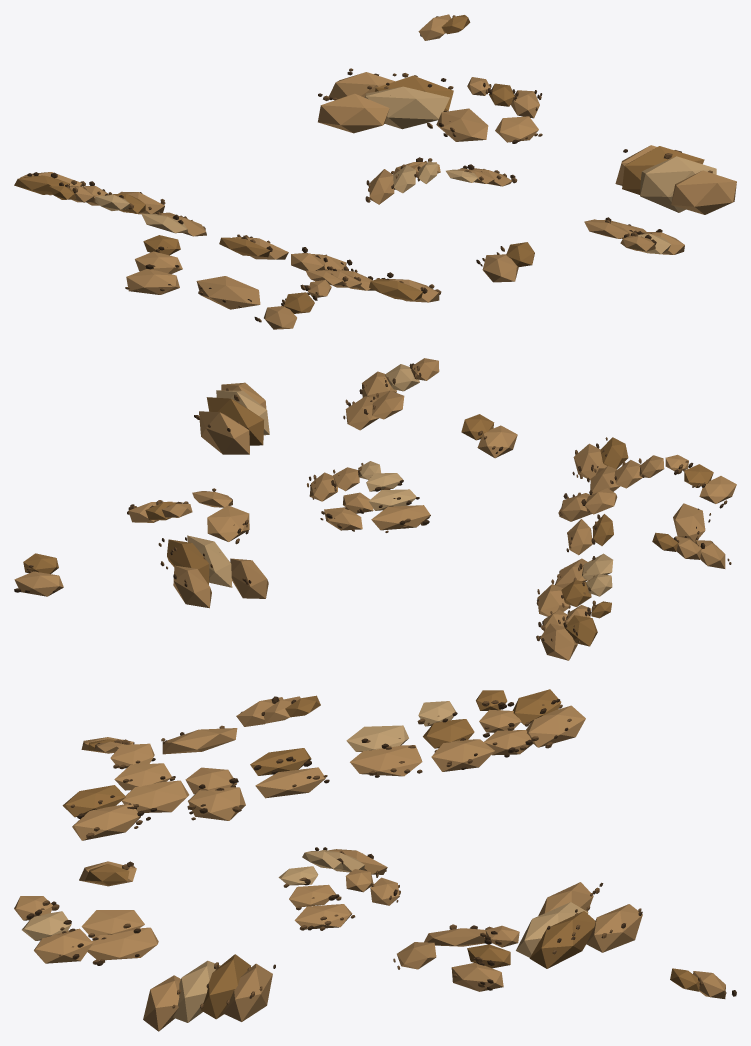
The model's file is chunk_1_4.glb.
3 renders of one model, top to bottom at view 1: azimuth 30°, elevation 25°; view 2: azimuth 150°, elevation 25°; view 3: azimuth 270°, elevation 25°, orthographic. The views are drawn at different scales.
Parts seen in each view (by area): view 1: chunk_1_4; view 2: chunk_1_4; view 3: chunk_1_4.
Boxes of the visible parts, left/top/right/bottom form: chunk_1_4: left=14, top=14, right=736, bottom=329; chunk_1_4: left=14, top=358, right=736, bottom=660; chunk_1_4: left=14, top=689, right=736, bottom=1031.
Size of the model in its own units: 72.52 by 6.58 by 70.37.
